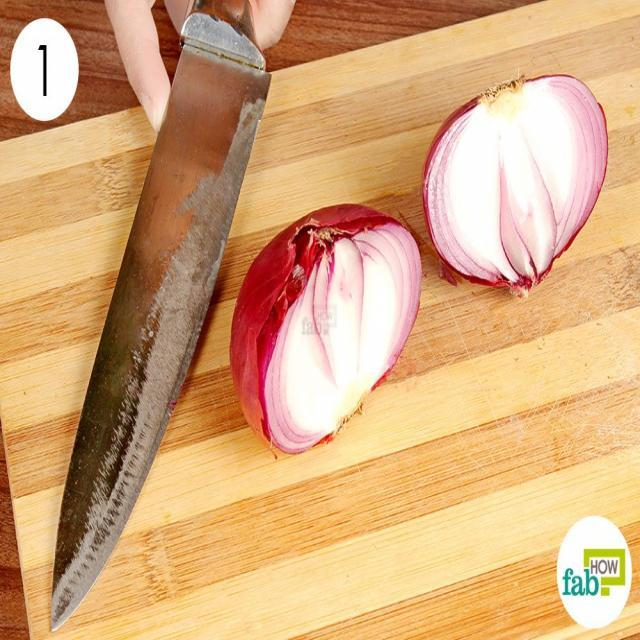onion: (224, 199, 426, 461), (422, 71, 613, 300)
